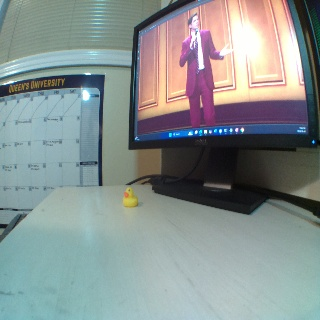duck_regular: (123, 186, 138, 206)
